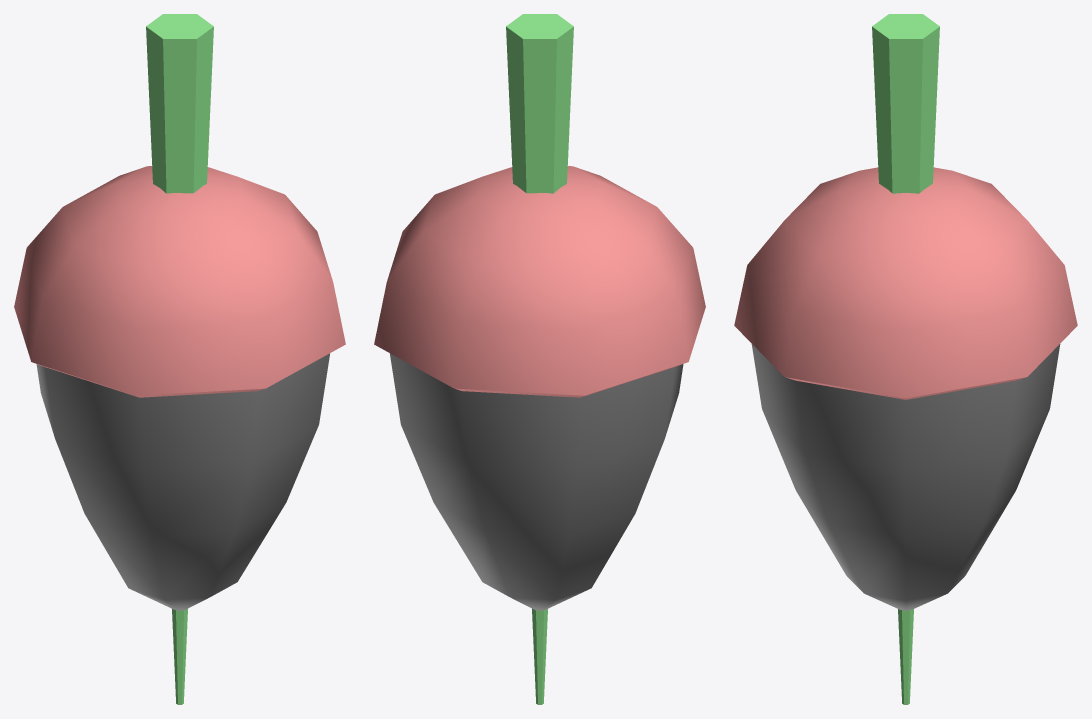
The model's file is Uistin.fbx.
3 views of the same model, side by side, from view 1: azimuth 30°, elevation 25°; view 2: azimuth 150°, elevation 25°; view 3: azimuth 270°, elevation 25° (orthographic).
Visible parts, largest first — view 1: SM_Uistin; view 2: SM_Uistin; view 3: SM_Uistin.
Part boxes in pixels (box(x1,y1,x2,y2)): SM_Uistin: box(14, 14, 345, 704); SM_Uistin: box(374, 14, 705, 704); SM_Uistin: box(734, 14, 1077, 704).
Bounding box in the file's own units: 41.57 × 90.4 × 41.57.
